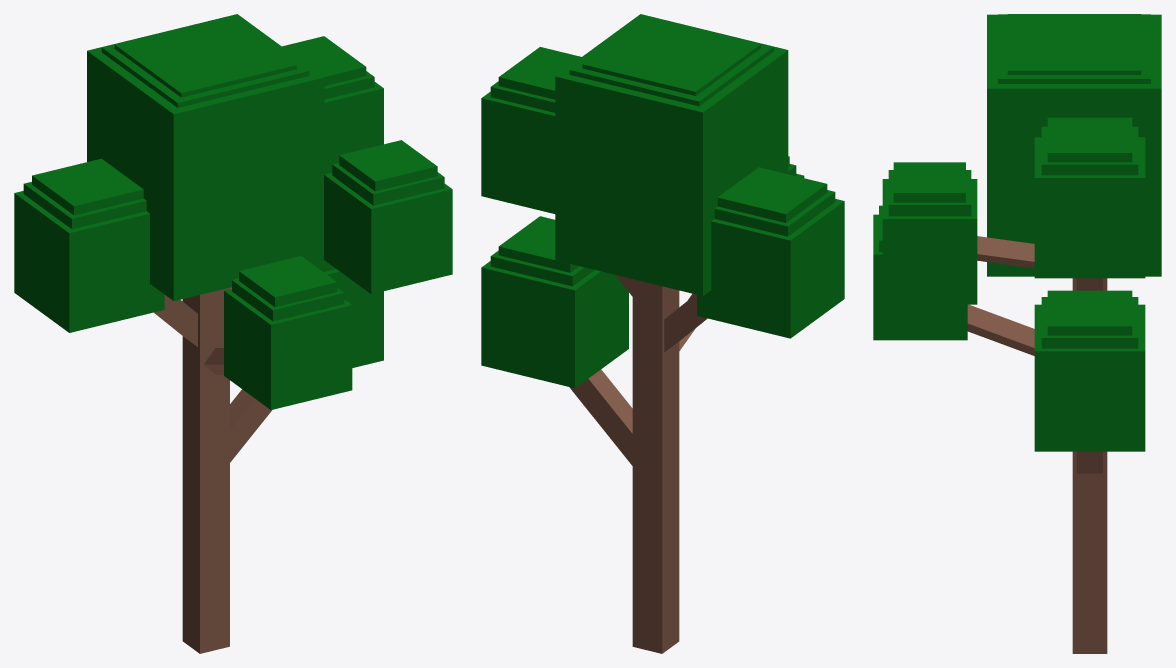
The model's file is tree_textured.fbx.
The picture shows the model from 3 angles, left to right: view 1: azimuth 30°, elevation 25°; view 2: azimuth 150°, elevation 25°; view 3: azimuth 270°, elevation 25°; orthographic projection. The views are drawn at different scales.
Parts seen in each view (by area): view 1: polySurface775; view 2: polySurface775; view 3: polySurface775.
Part boxes in pixels (<box>): polySurface775: <box>14,14,452,653</box>; polySurface775: <box>481,14,844,653</box>; polySurface775: <box>873,14,1161,653</box>.
Bounding box in the file's own units: 3.3 × 5.98 × 2.61.
